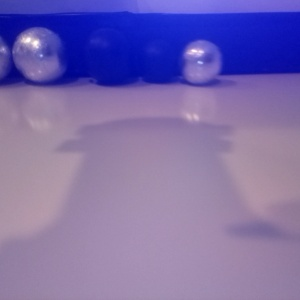alive_ball: (196, 91, 300, 300)
dead_ball: (139, 15, 209, 89)
